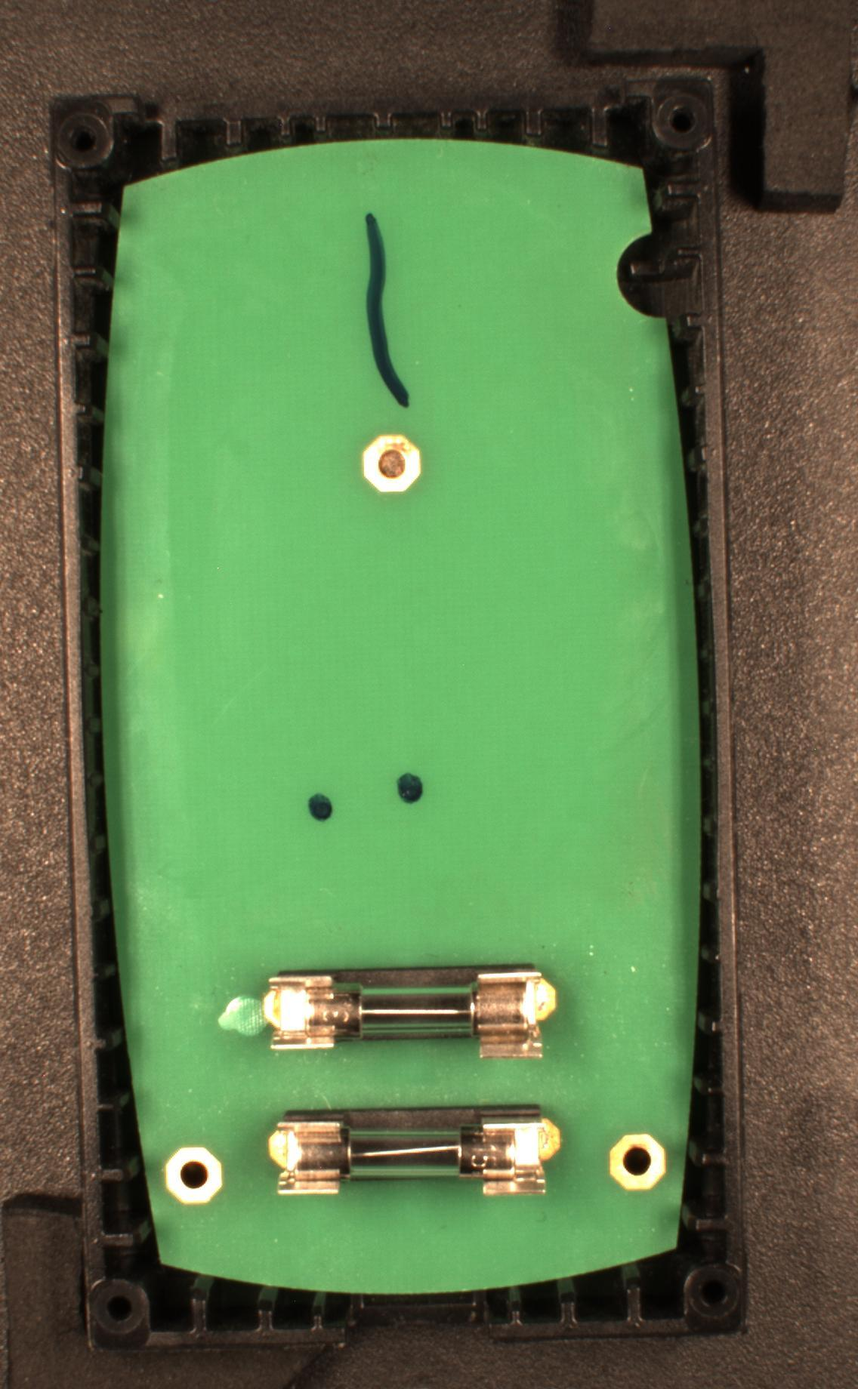Linijsko Ostecene: (363, 210, 411, 409)
Tockasto Ostecenje: (394, 771, 428, 808), (305, 790, 334, 823)
